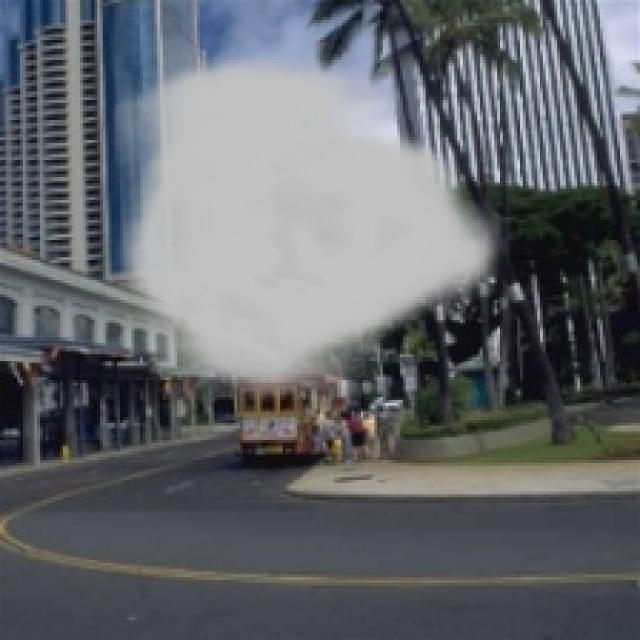Smoke: (114, 51, 509, 406)
